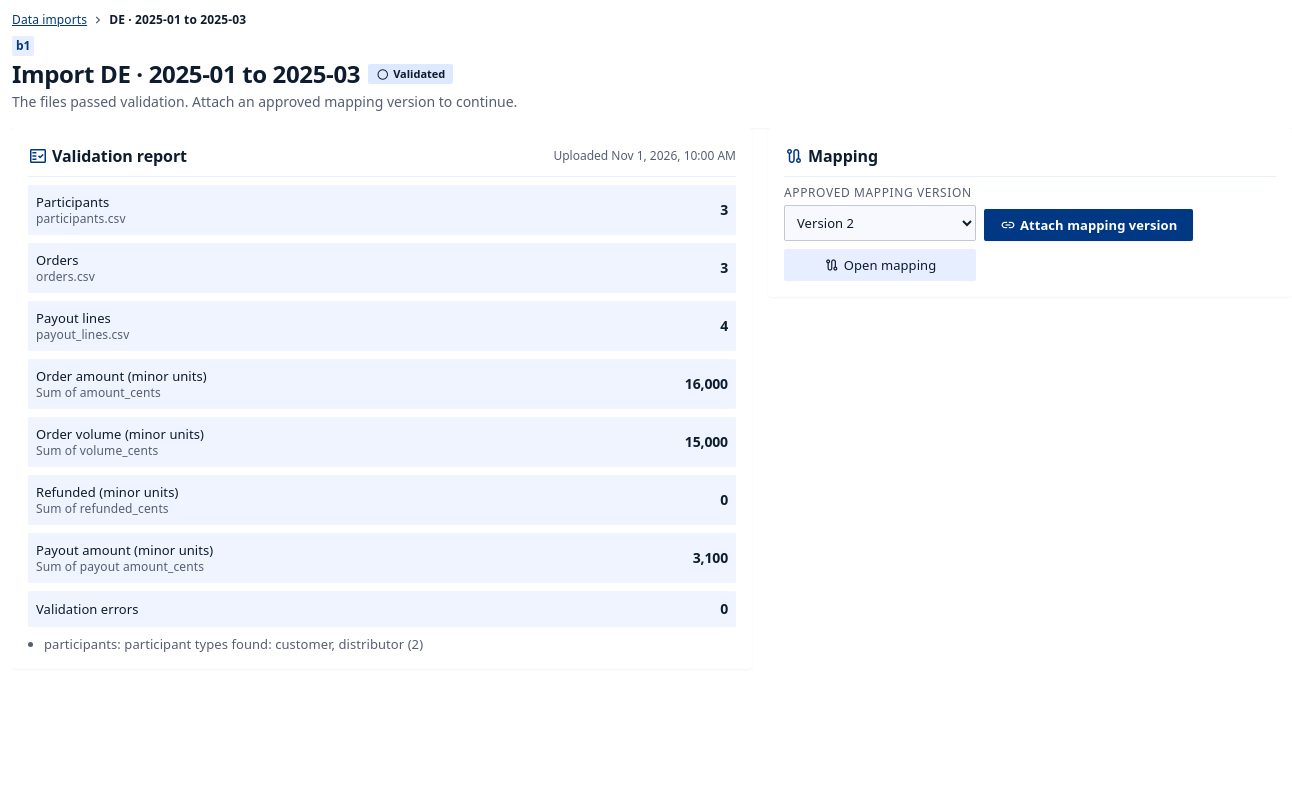
Scenario: BatchDetail › attaches an approved mapping version and names the codes it does not cover
Check: the heading "Import DE · 2025-01 to 2025-03" is shown, box [12,58,360,90]
Check: the list item "participant types found" shows "(2)", box [44,635,423,653]
Click the button "Attach mapping version" at (1089, 225), box [984,209,1193,241]
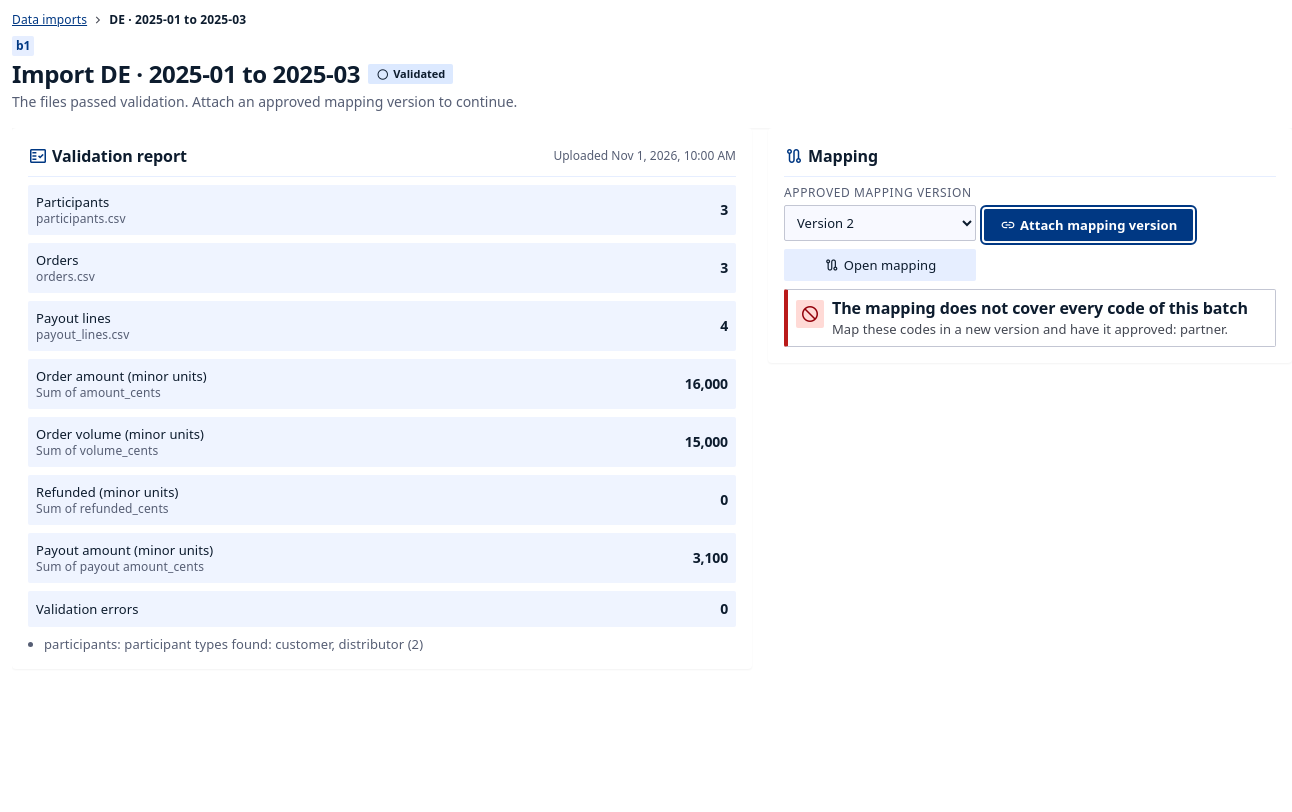
Check: the text "Map these codes in a new version" shows "partner", box [832,320,1228,338]
Click the button "Attach mapping version" at (1089, 225), box [984,209,1193,241]
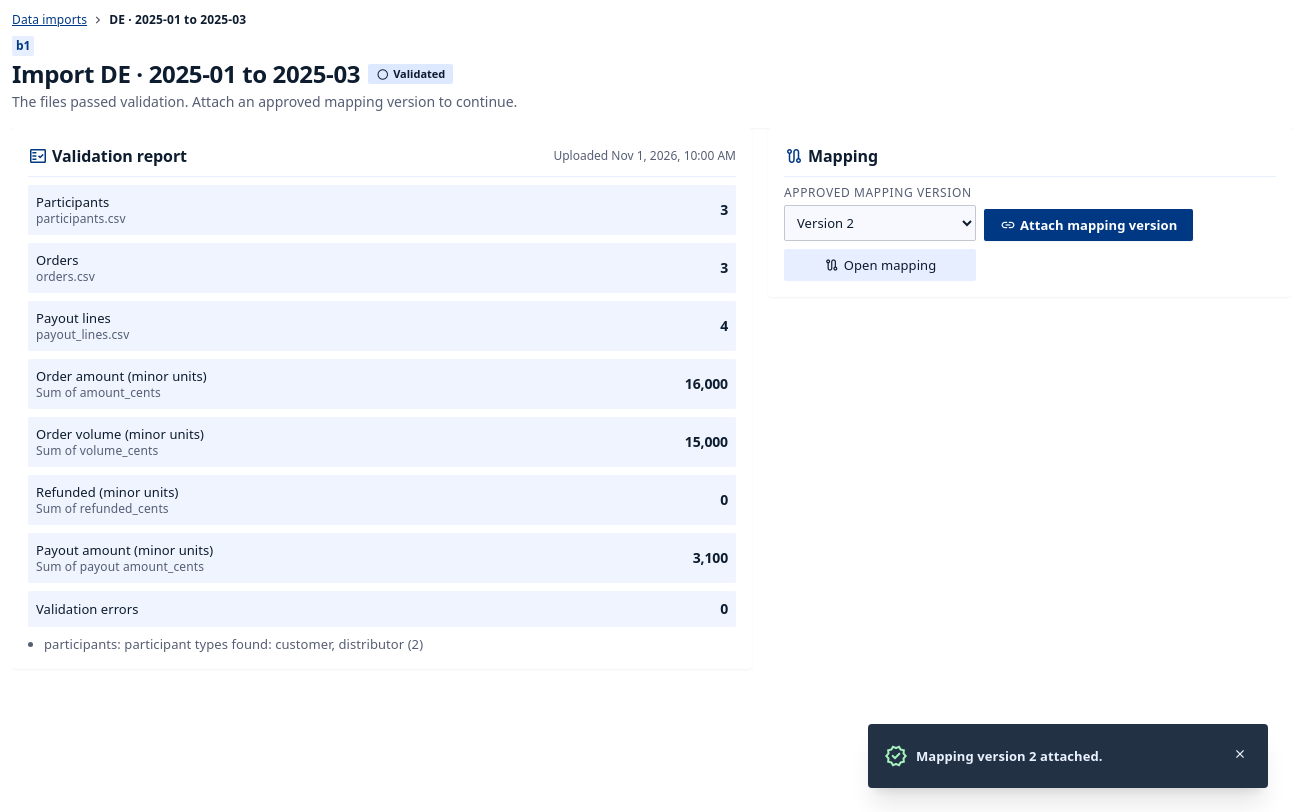
Check: the text "Mapping version 2 attached." is shown, box [916,747,1102,765]
